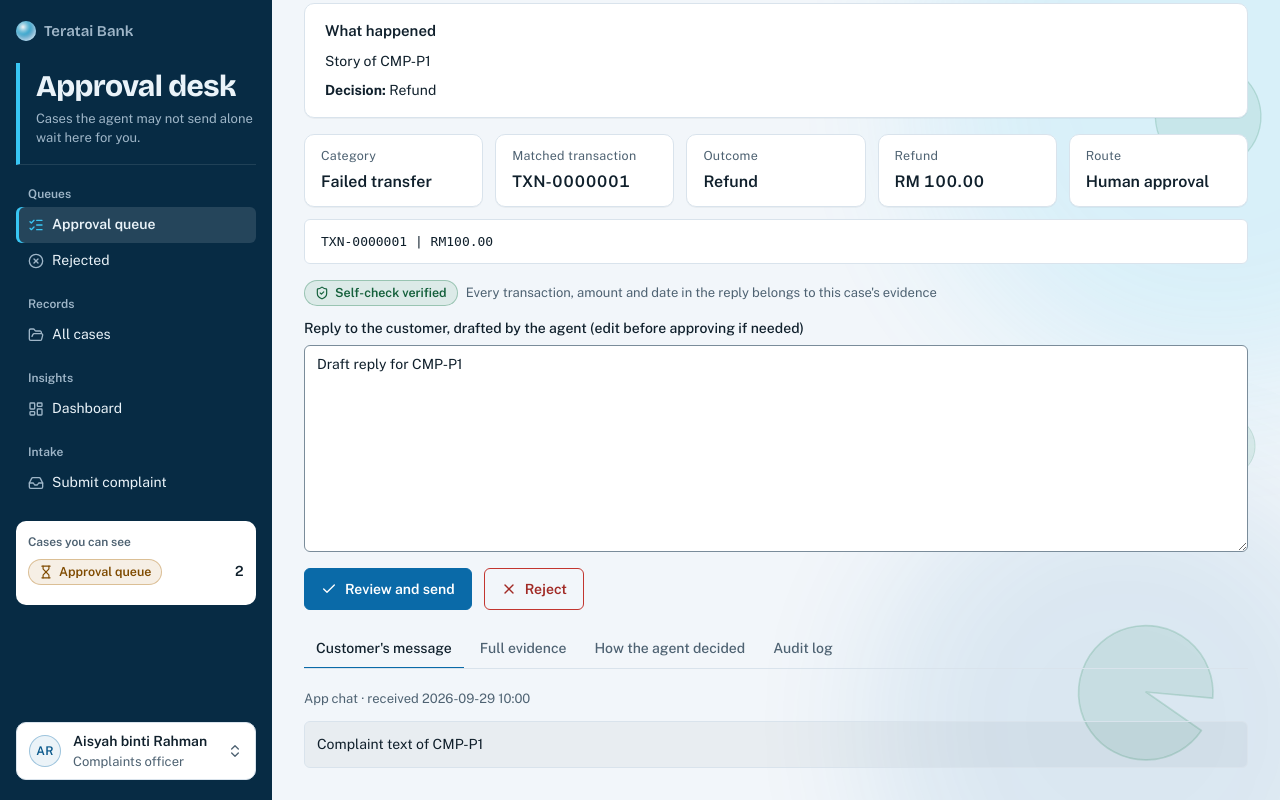
Test: approval queue › refuses an edited reply that fails the self-check and lists the problems
(page scrolled)
Type " We refunded TXN-9999999." into the text box labelled "Reply to the customer" at [776, 448], box [304,345,1248,552]
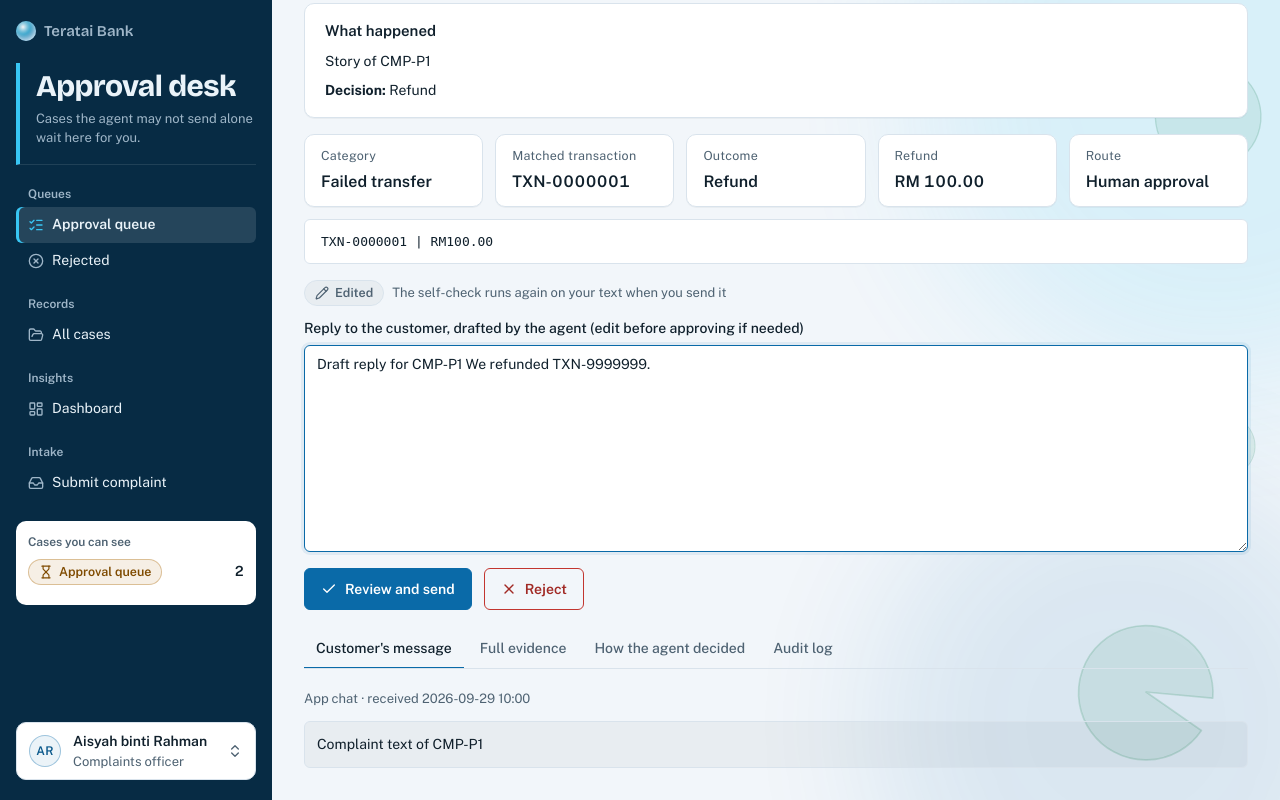
Click the button "Review and send" at [388, 589], box [304,568,472,610]
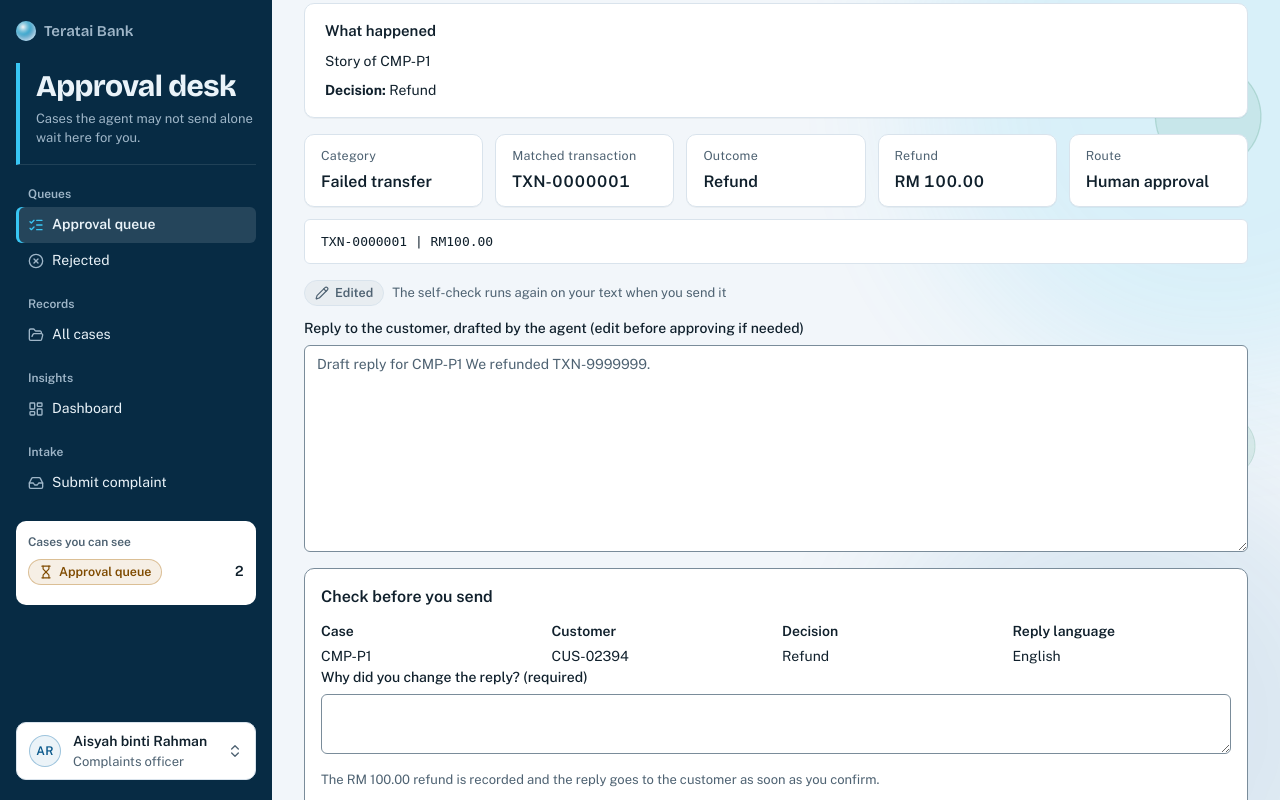
Type "added detail" into the text box labelled "Why did you change the reply? (required)" at [776, 724], box [321,694,1231,754]
(page scrolled)
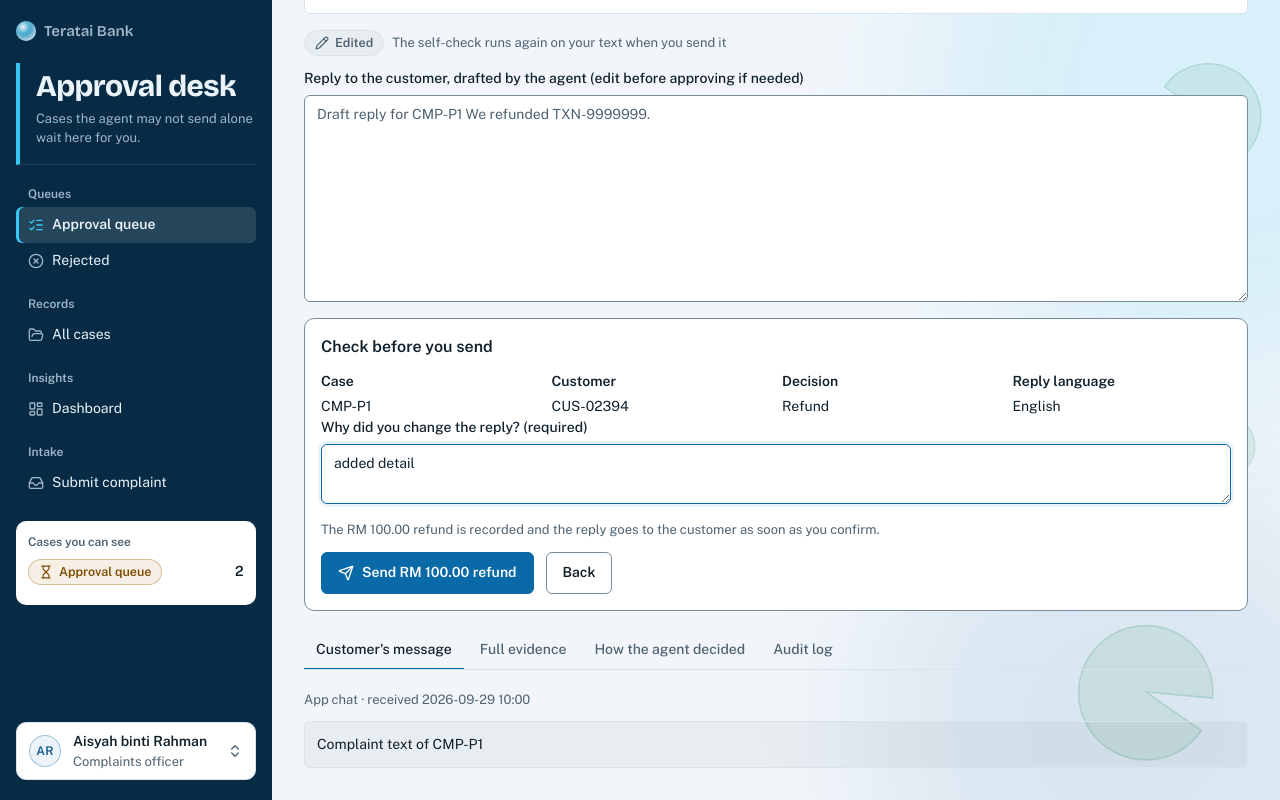
Click the button "Send RM 100.00 refund" at [427, 572], box [321,552,534,594]
(page scrolled)
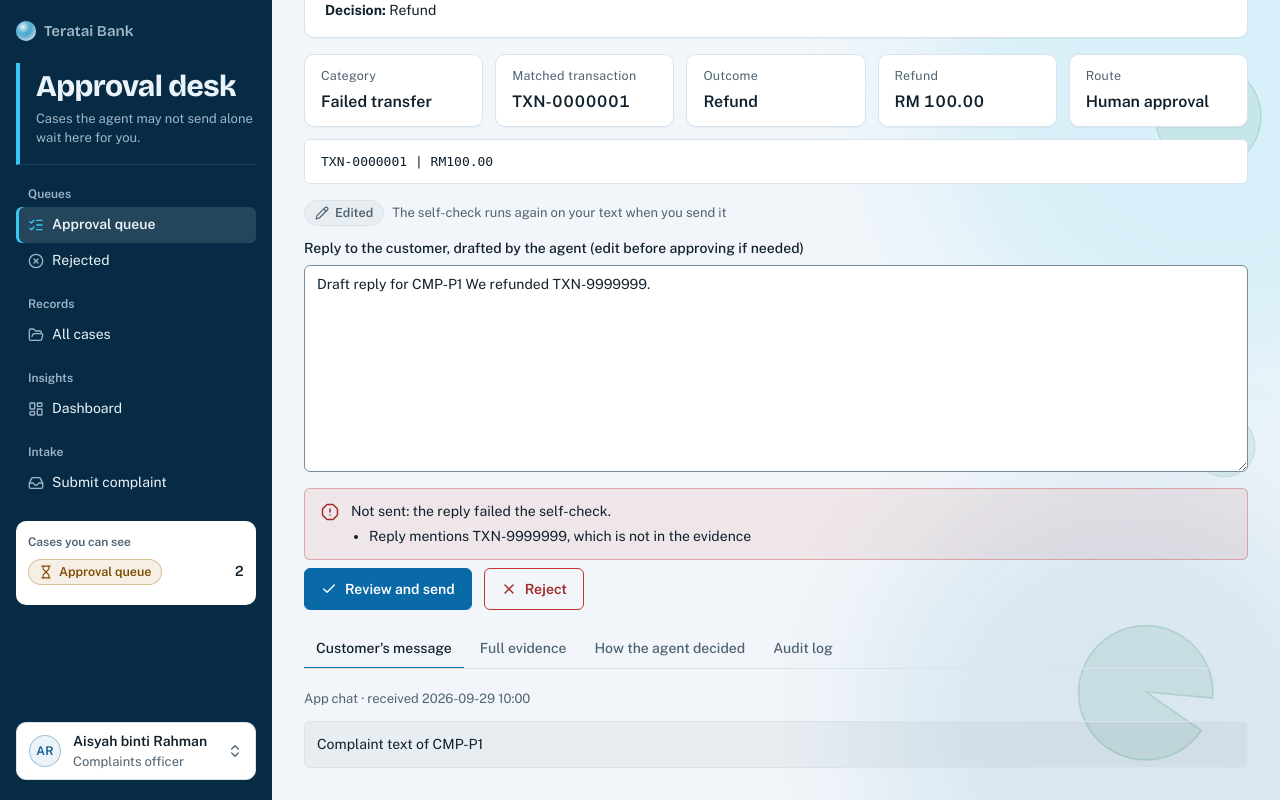
Expected: the message shows "Not sent: the reply failed the self-check.", [351,503,611,519]
Expected: the message shows "TXN-9999999", [369,528,751,544]
